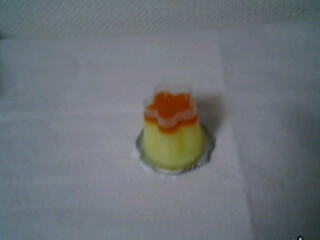001_classes: (137, 83, 217, 180)
